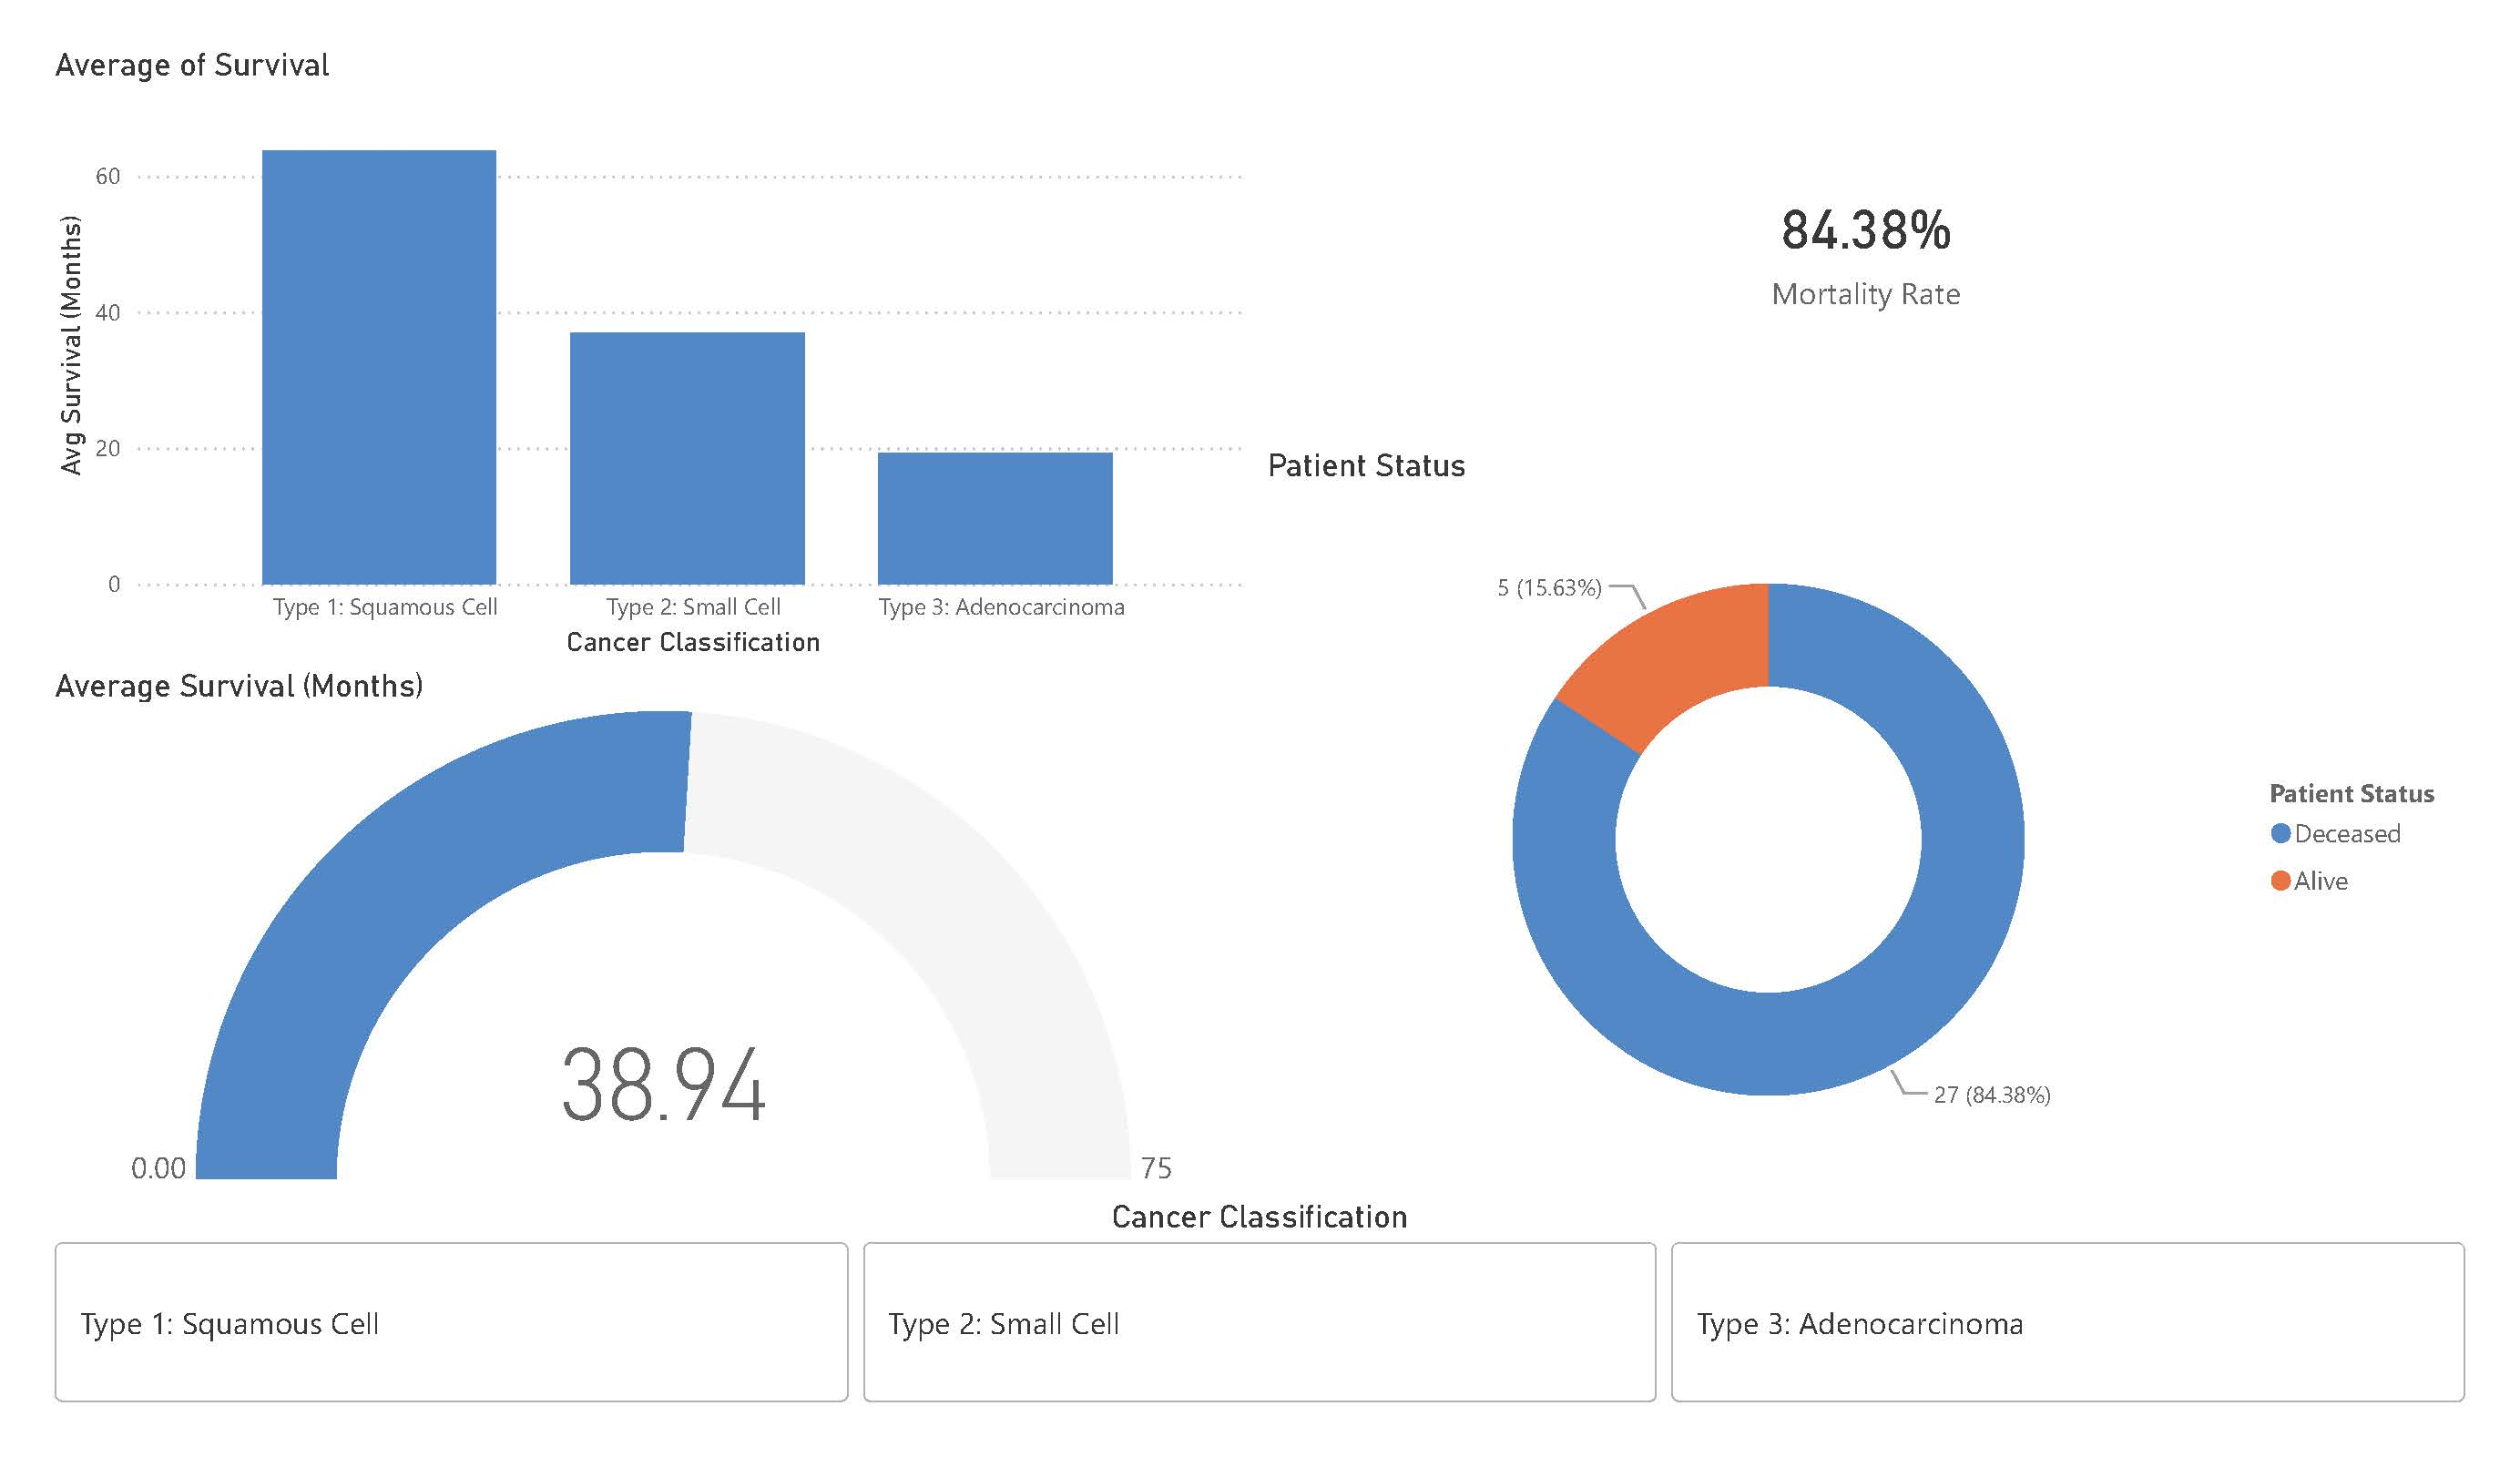

This screenshot's page, from the dashboard's own definition file:
{"tool":"powerbi","page":{"name":"Page 1","canvas":[1280,720],"ordinal":0},"visuals":[{"type":"clusteredColumnChart","title":"Average of Survival","fields":{"Category":["final_clinical_dataset_with_survival.Cancer_Classification"],"Y":["Avg(final_clinical_dataset_with_survival.Survival_Months)"]},"box":[0,0,639.5,326.6],"z":0},{"type":"card","fields":{"Values":["final_clinical_dataset_with_survival.Mortality Rate"]},"box":[639.4,0,640.6,211.5],"z":1},{"type":"donutChart","title":"Patient Status","fields":{"Y":["CountNonNull(final_clinical_dataset_with_survival.Event_Occurred)"],"Category":["final_clinical_dataset_with_survival.Patient Status"]},"box":[639.4,211.5,640.6,395.6],"z":2},{"type":"advancedSlicerVisual","title":"Cancer Classification","fields":{"Values":["final_clinical_dataset_with_survival.Cancer_Classification"]},"box":[0,606.5,1280.3,113.9],"z":3},{"type":"gauge","title":"Average Survival (Months)","fields":{"Y":["Avg(final_clinical_dataset_with_survival.Survival_Months)"],"MaxValue":["Max(final_clinical_dataset_with_survival.Survival_Months)"]},"box":[0,326.6,639.5,279.9],"z":4}]}

Visuals, with their boxes on the page's 1280x720 design canvas (x1, y1, x2, y2). These are canvas units, not pixel positions in the 2520x1457 screenshot, which may show the page scaled, cropped or inside an application window:
"Average of Survival" clusteredColumnChart: l=0, t=0, r=640, b=327
card - final_clinical_dataset_with_survival.Mortality Rate: l=639, t=0, r=1280, b=212
"Patient Status" donutChart: l=639, t=212, r=1280, b=607
"Cancer Classification" advancedSlicerVisual: l=0, t=606, r=1280, b=720
"Average Survival (Months)" gauge: l=0, t=327, r=640, b=606
